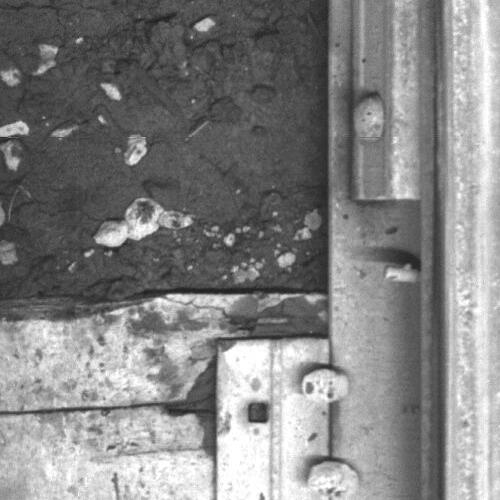do: (216, 339, 360, 499)
fp_end: (349, 176, 434, 222)
hole_do: (235, 390, 282, 433)
rail: (445, 1, 500, 500)
tie_wood_destroyed: (1, 292, 327, 499)
